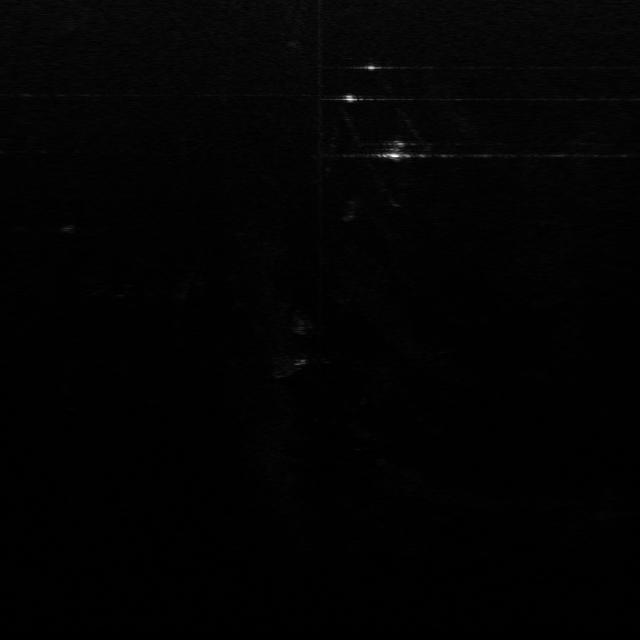rov: (382, 138, 417, 162)
